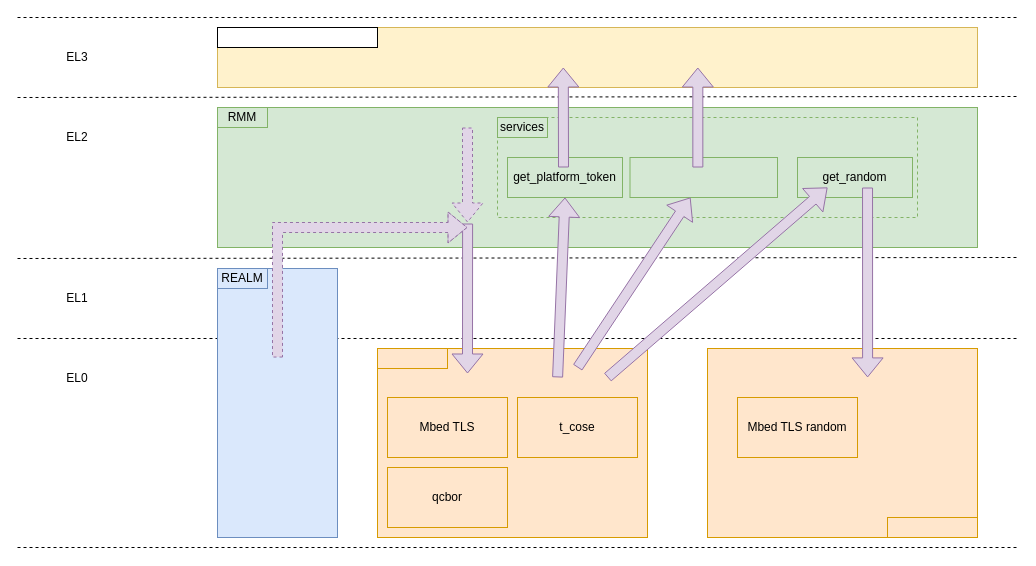
This 1036x566 diagram has some shape labels left out. The shapes that lost their labels are listed below. From the top down, each one's centre as x and y in pixels, then its label:
[297,37]: EL3 / Secure Monitor / TF-A
[703,177]: get_realm_attestation_key
[412,358]: attest_helper
[932,527]: random_app
